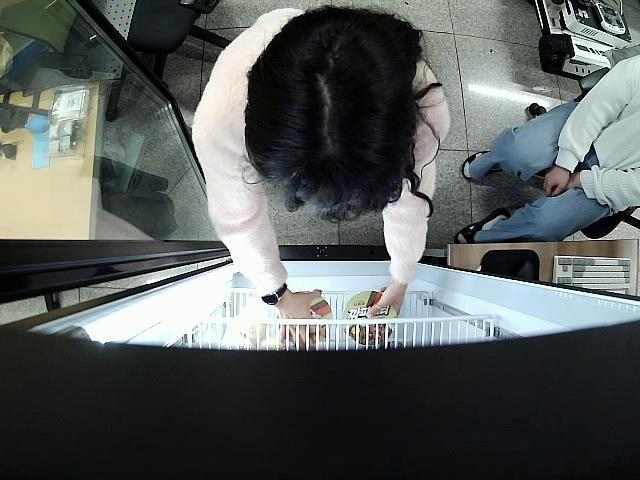03_chapagetti_L: (278, 294, 334, 347), (344, 292, 397, 342)
